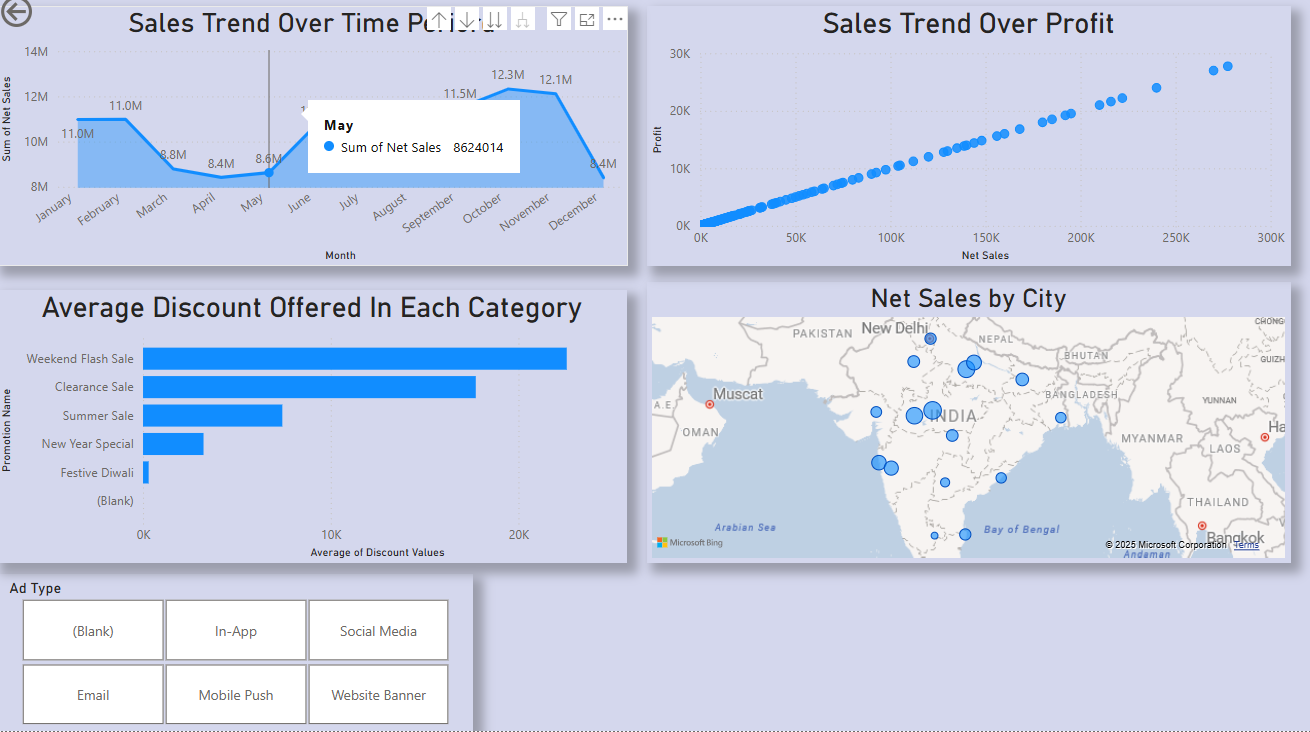

The page's visual inventory and layout, read from the dashboard file:
{"tool":"powerbi","page":{"name":"trends","canvas":[1280,720],"ordinal":2},"visuals":[{"type":"lineChart","title":"Sales Trend Over Time Periord","fields":{"Y":["Sum(dim data.Net Sales)"],"Category":["dim data.Date (dd/mm/yyyy).Variation.Date Hierarchy.Year","dim data.Date (dd/mm/yyyy).Variation.Date Hierarchy.Quarter","dim data.Date (dd/mm/yyyy).Variation.Date Hierarchy.Month","dim data.Date (dd/mm/yyyy).Variation.Date Hierarchy.Day"]},"box":[0,15,614.5,252.8],"z":0},{"type":"scatterChart","title":"Sales Trend Over Profit","fields":{"X":["dim data.Net Sales"],"Y":["dim data.Profit"]},"box":[633.5,15,625.5,252.8],"z":1000},{"type":"barChart","title":"Average Discount Offered In Each Category","fields":{"Y":["Avg(dim data.Discount Values )"],"Category":["Dim Promotion.Promotion Name"]},"box":[0,291.1,614.4,265.6],"z":2000},{"type":"map","title":"Net Sales by City","fields":{"Category":["Dim Customers.City"],"Size":["Sum(dim data.Net Sales)"]},"box":[633.5,282.8,625.5,272.8],"z":3000},{"type":"slicer","fields":{"Values":["Dim Promotion.Ad Type"]},"box":[0,566.7,464.4,153.3],"z":4000},{"type":"actionButton","box":[0,0,100,40],"z":5000}]}

Visuals, with their boxes on the page's 1280x720 design canvas (x1, y1, x2, y2). These are canvas units, not pixel positions in the 1310x732 screenshot, which may show the page scaled, cropped or inside an application window:
"Sales Trend Over Time Periord" lineChart: [0, 15, 614, 268]
"Sales Trend Over Profit" scatterChart: [634, 15, 1259, 268]
"Average Discount Offered In Each Category" barChart: [0, 291, 614, 557]
"Net Sales by City" map: [634, 283, 1259, 556]
slicer - Dim Promotion.Ad Type: [0, 567, 464, 720]
actionButton: [0, 0, 100, 40]
